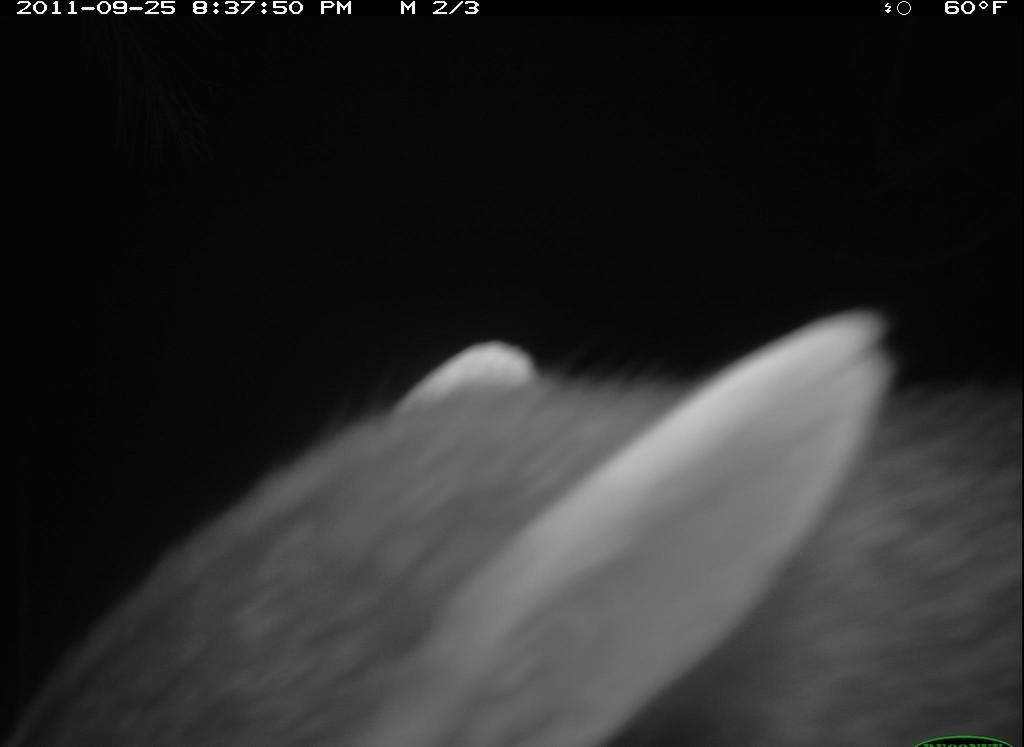raccoon: (3, 305, 1017, 742)
